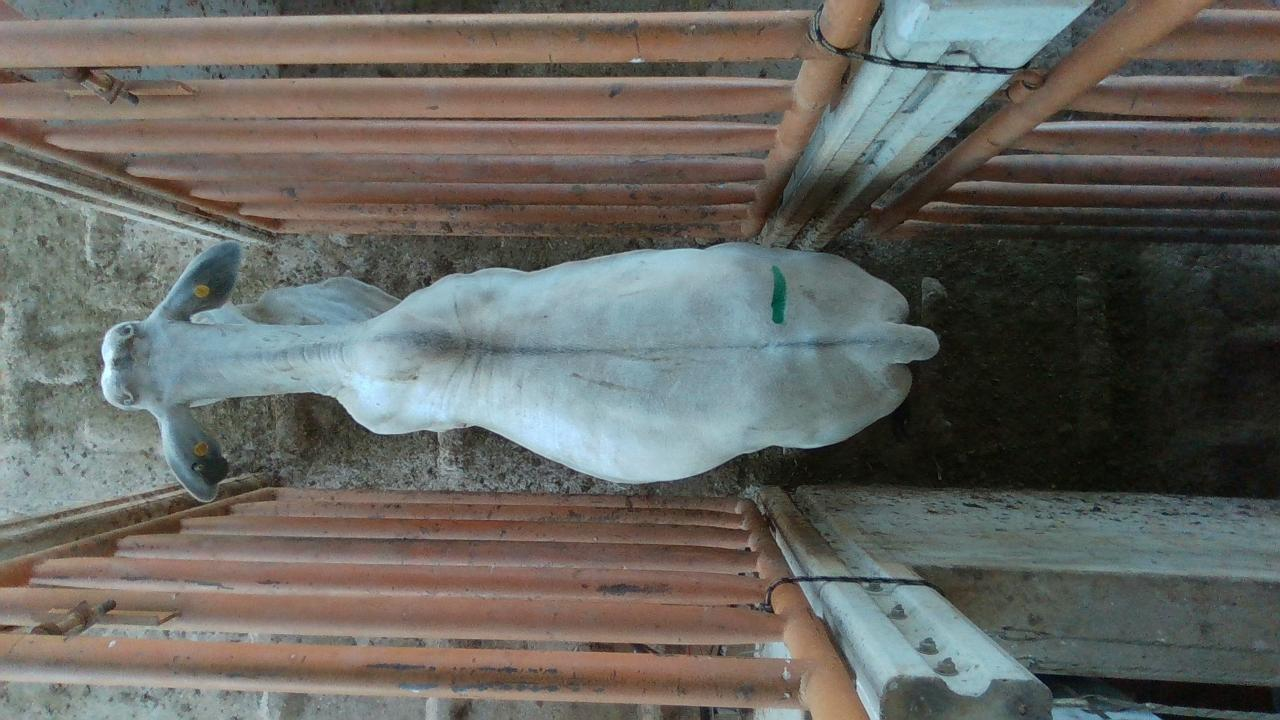cattle: (98, 237, 941, 500)
